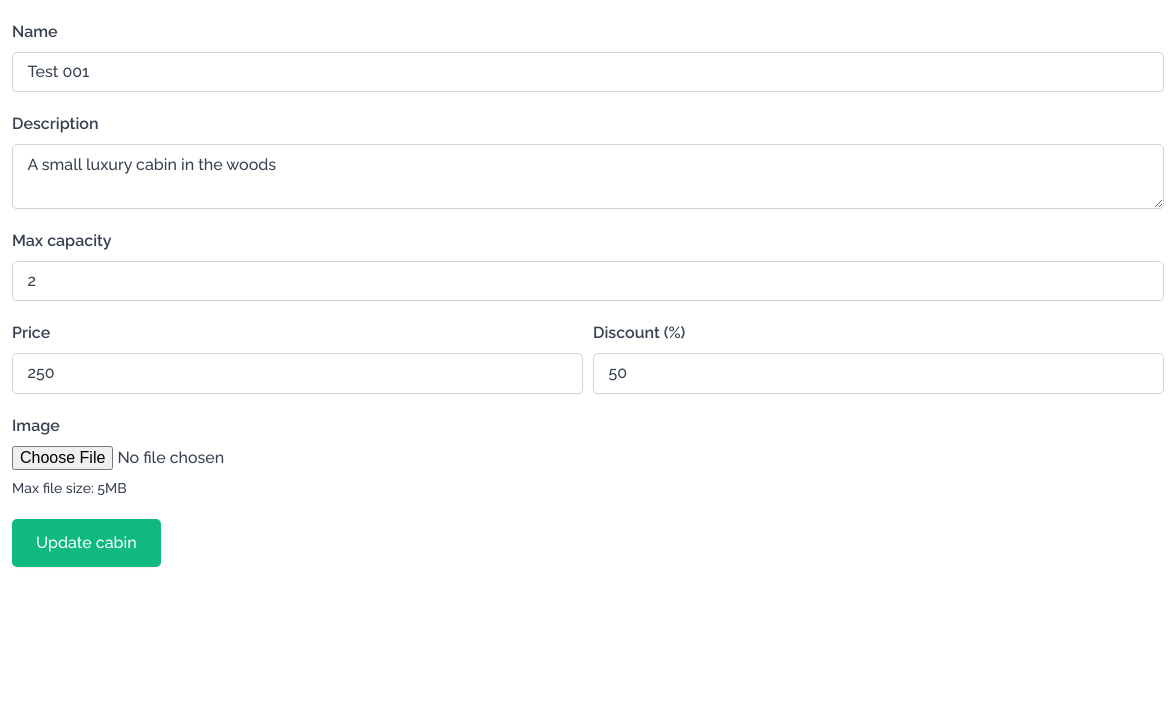
Scenario: UpdateCabinForm › should show an error message if max capacity value is a decimal number
Replace the text in the number field labelled "Max capacity" with "1.5" at (588, 281), box 12,261 -> 1164,301
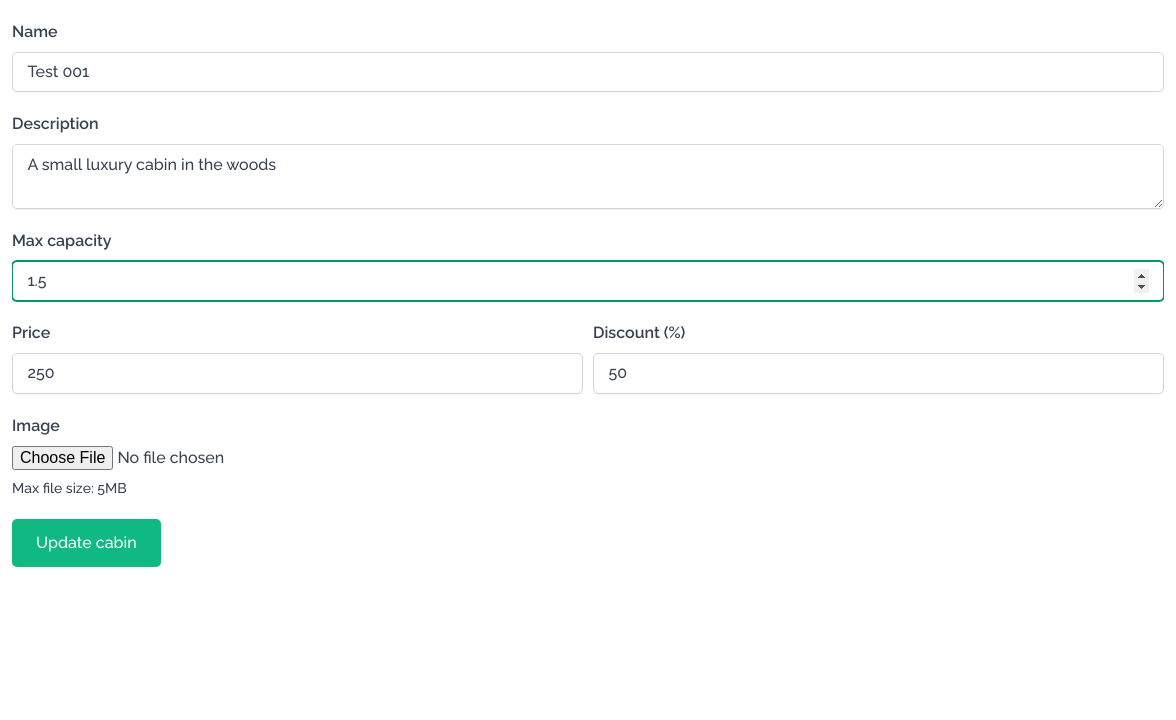
Click the button "Update cabin" at (86, 542), box 12,518 -> 161,566
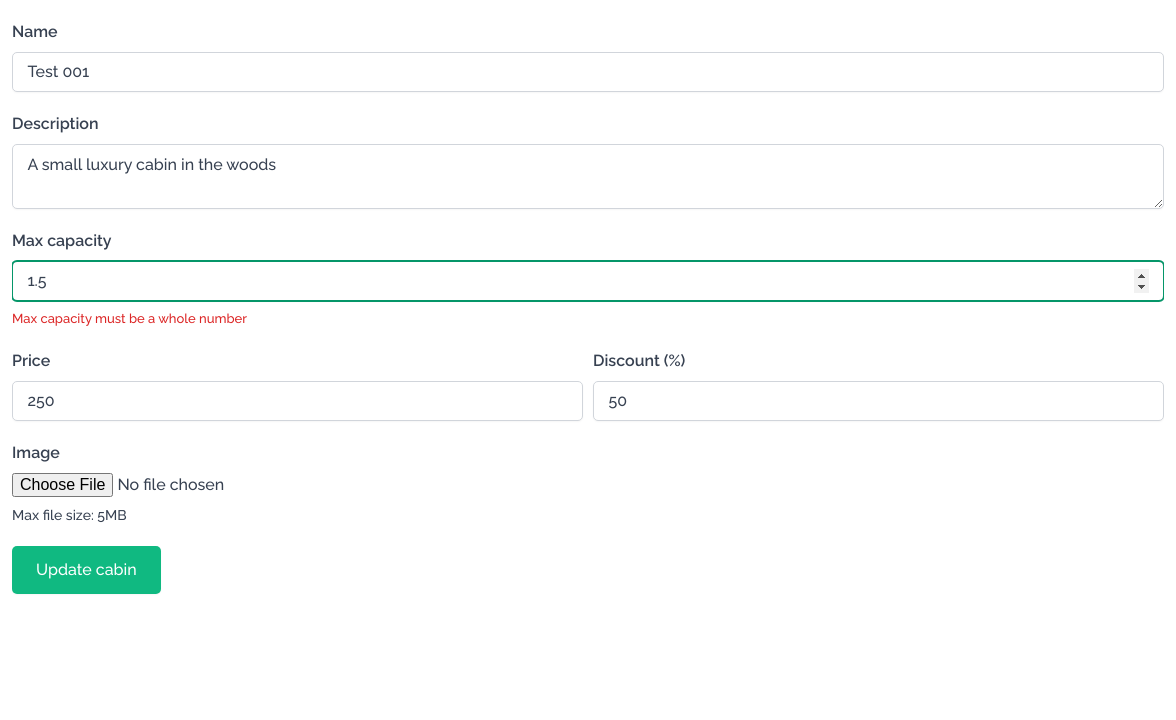
Check: the text "Max capacity must be a whole number" is shown, box 12,311 -> 247,326
